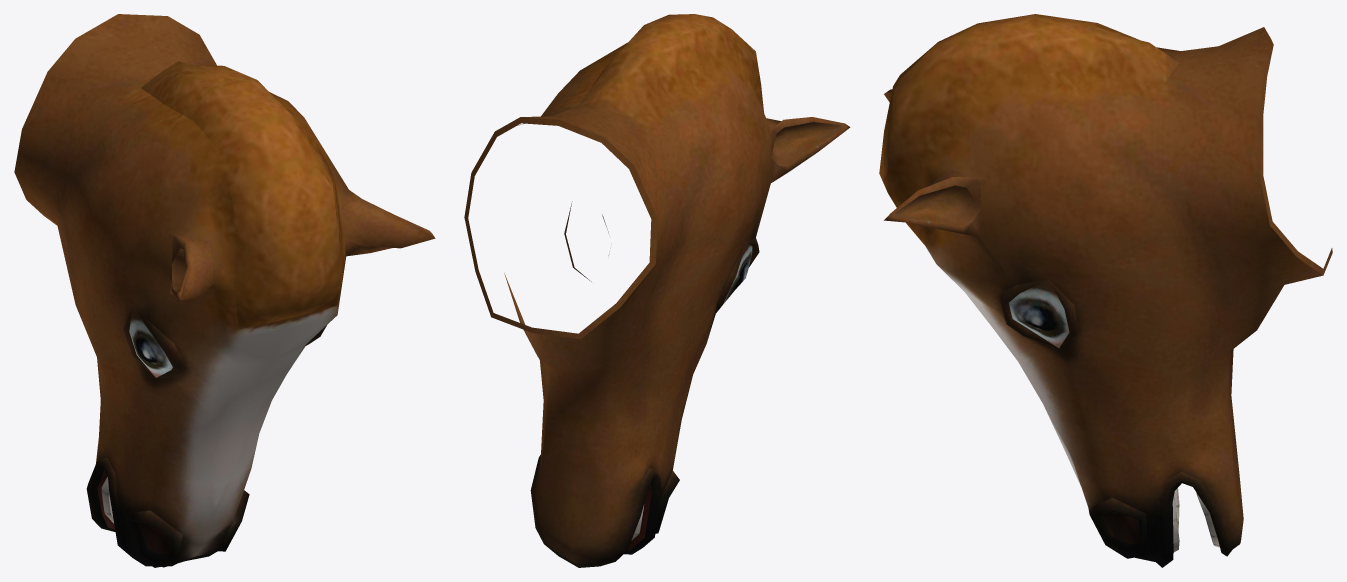
The model's file is horse.glb.
3 renders of one model, left to right at view 1: azimuth 30°, elevation 25°; view 2: azimuth 150°, elevation 25°; view 3: azimuth 270°, elevation 25°, orthographic. The views are drawn at different scales.
Parts seen in each view (by area): view 1: Horse Mask; view 2: Horse Mask; view 3: Horse Mask.
Part boxes in pixels (box(x1,y1,x2,y2)): Horse Mask: box(14, 14, 435, 567); Horse Mask: box(464, 14, 850, 567); Horse Mask: box(879, 14, 1332, 567).
Size of the model in its own units: 0.2415 by 0.476 by 0.3622.
Materials: 1 (1 with a texture image).
